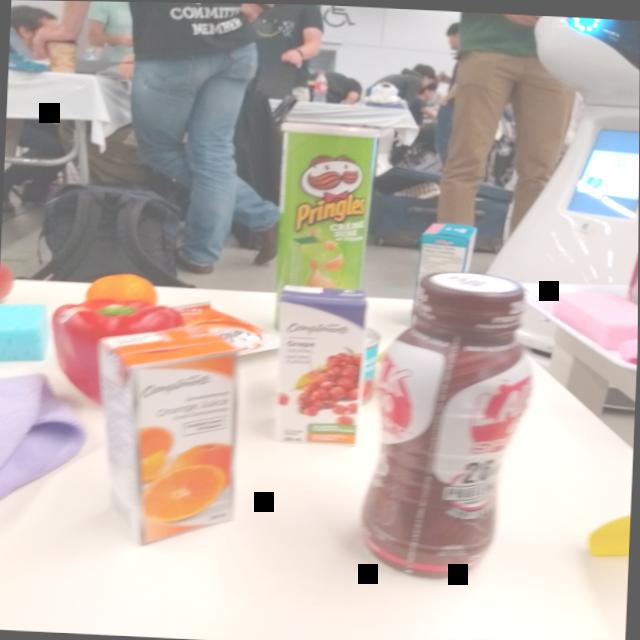cereal: (414, 219, 482, 274)
chocolate_drink: (353, 262, 541, 586)
coke: (623, 239, 639, 312)
grape_juice: (267, 280, 366, 448)
orange: (81, 269, 166, 307)
orange_juice: (92, 322, 248, 553)
paprika: (47, 296, 179, 401)
pringles: (265, 111, 381, 292)
